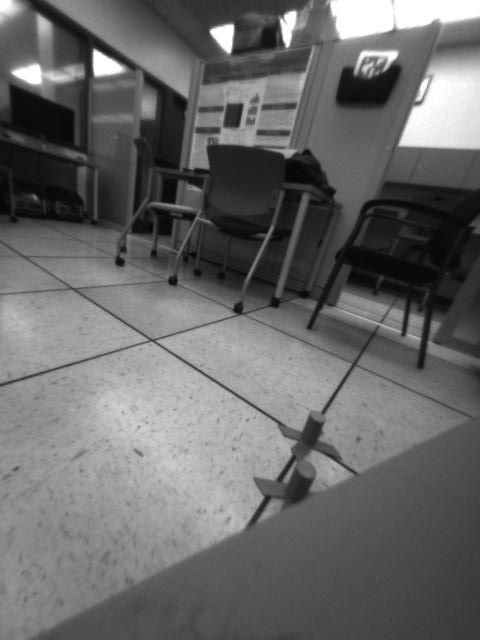X: (279, 406, 346, 462)
